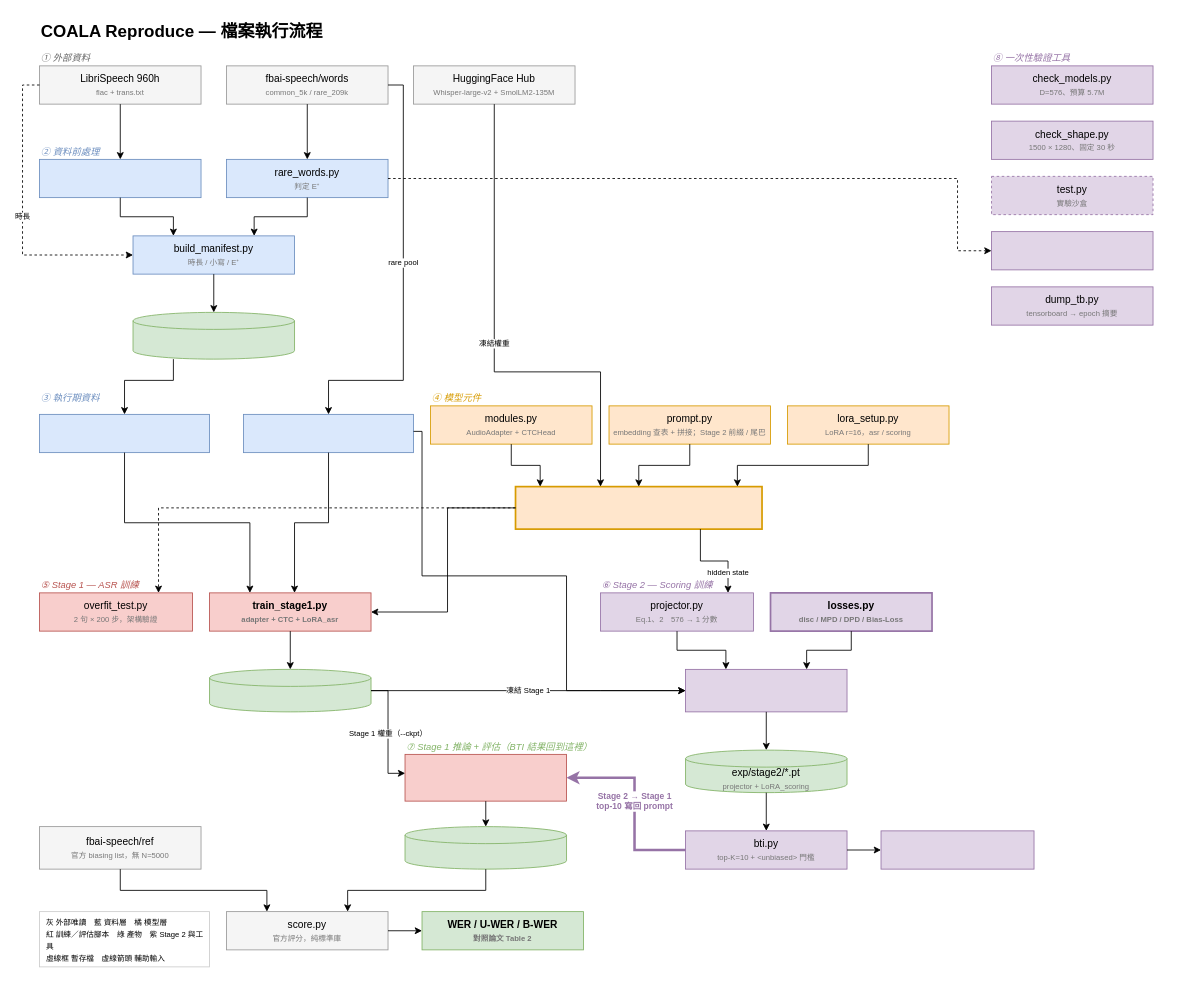
The diagram is 1193 pixels wide and 982 high, and some of its shapes have lost their labels. Each missing label, with the centre of its shape:
"biasing.py E⁻ 採樣 + <unbiased>" goes at pixel 328 433.
"data/manifest/*.tsv 7 split / 961 h" goes at pixel 213 335.
"dataset.py log-Mel 特徵" goes at pixel 124 433.
"evaluate.py Stage 1 ASR（LoRA asr）逐句轉寫 prompt 放 BTI 選出的詞" goes at pixel 485 777.
"exp/hyp/*.tsv utt_id + 預測文字" goes at pixel 485 847.
"exp/stage1/*.pt checkpoint + tensorboard" goes at pixel 290 690.
"figure1.py rare word 分布，最大 24" goes at pixel 1072 250.
"model.py COALAModel：encoder → adapter → LM" goes at pixel 638 507.
"parse_trans.py 解析 trans.txt" goes at pixel 120 178.
"recall.py Recall@X、Recall#X" goes at pixel 957 849.
"train_stage2.py M=120，121 次 forward + KV cache" goes at pixel 766 690.
